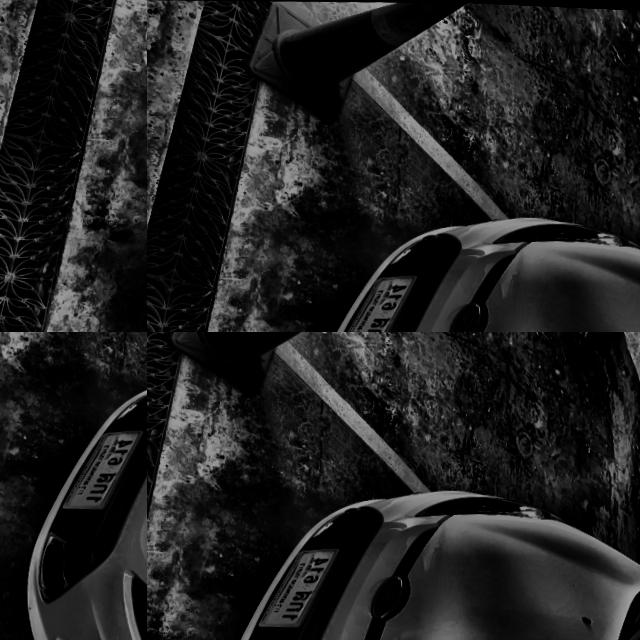license-plate: (249, 538, 347, 629)
